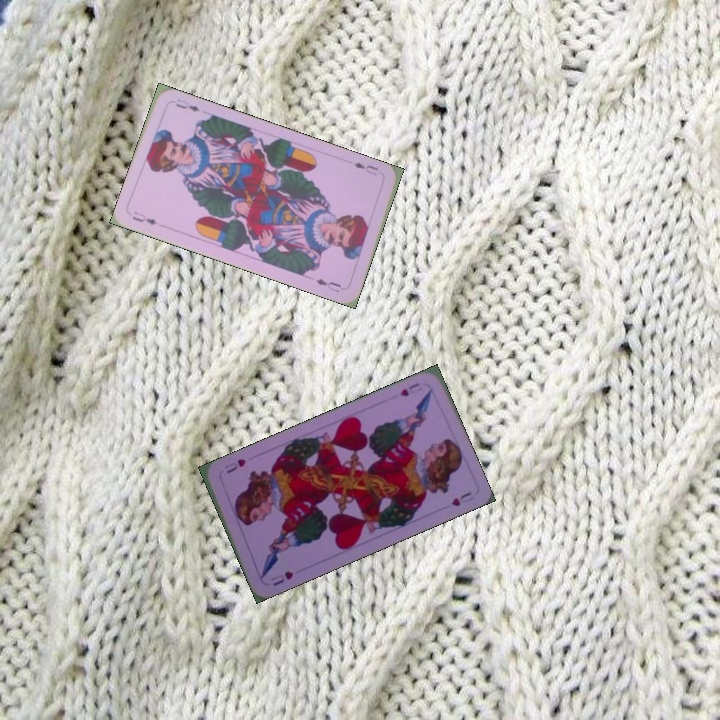EU: (349, 158, 381, 178), (128, 207, 160, 227)
HU: (267, 567, 296, 589), (396, 379, 424, 399)
